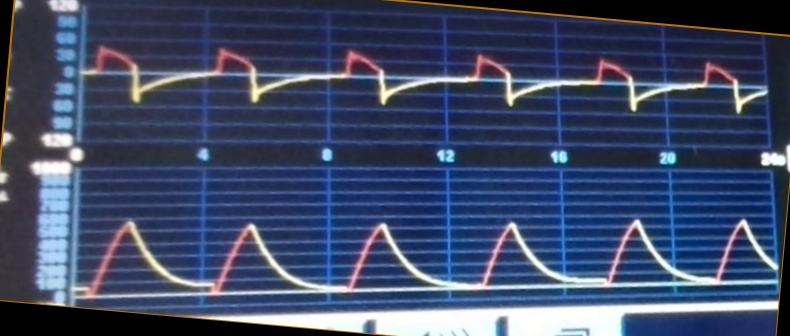Normal Flow: (84, 41, 767, 141)
Normal Volume: (74, 198, 775, 298)
